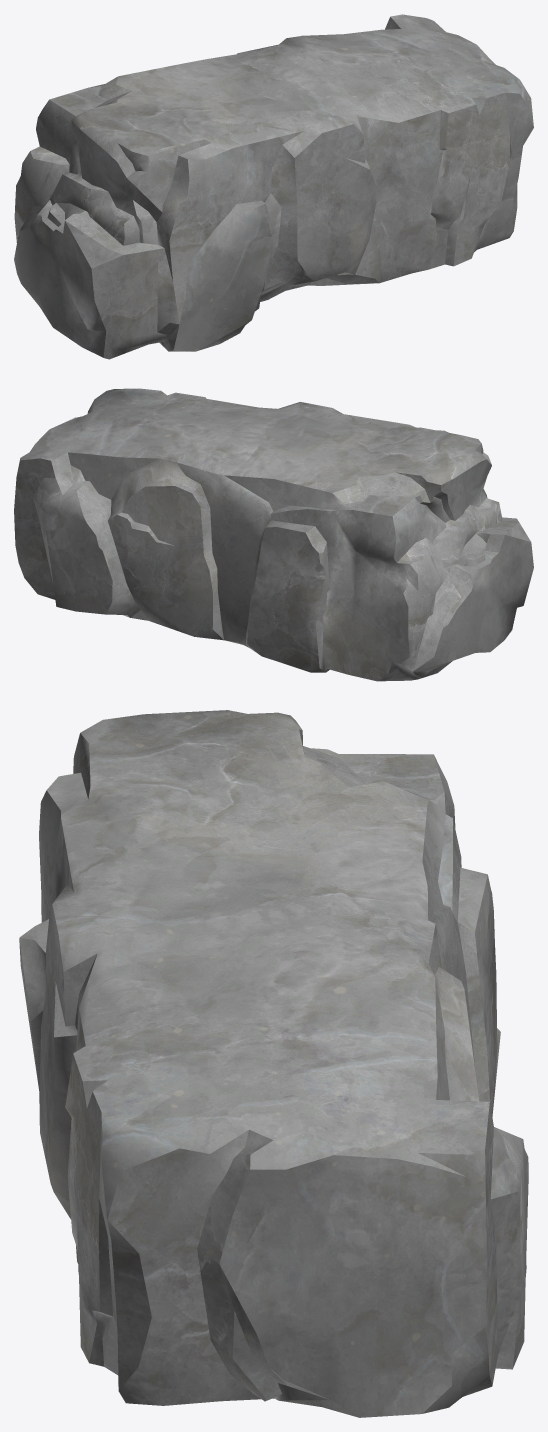
File: SM_Com_Roc_14AS.fbx
3 views of the same model, one above another, from view 1: azimuth 30°, elevation 25°; view 2: azimuth 150°, elevation 25°; view 3: azimuth 270°, elevation 25° (orthographic). The views are drawn at different scales.
Visible parts, largest first — view 1: SM_Com_Roc_14AS.mo; view 2: SM_Com_Roc_14AS.mo; view 3: SM_Com_Roc_14AS.mo.
Part boxes in pixels (left/top/right/bottom): SM_Com_Roc_14AS.mo: left=14, top=14, right=533, bottom=359; SM_Com_Roc_14AS.mo: left=14, top=388, right=533, bottom=681; SM_Com_Roc_14AS.mo: left=19, top=710, right=528, bottom=1417.
Size of the model in its own units: 41.87 by 17.71 by 21.82.
